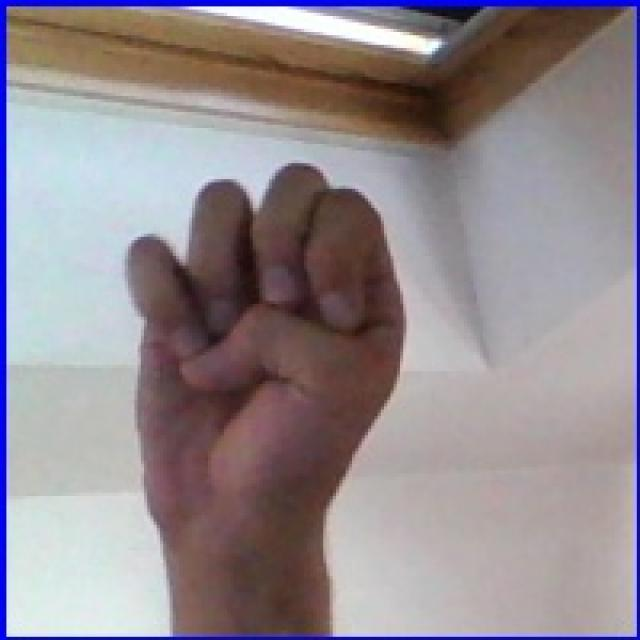Letra E: (106, 131, 432, 584)
